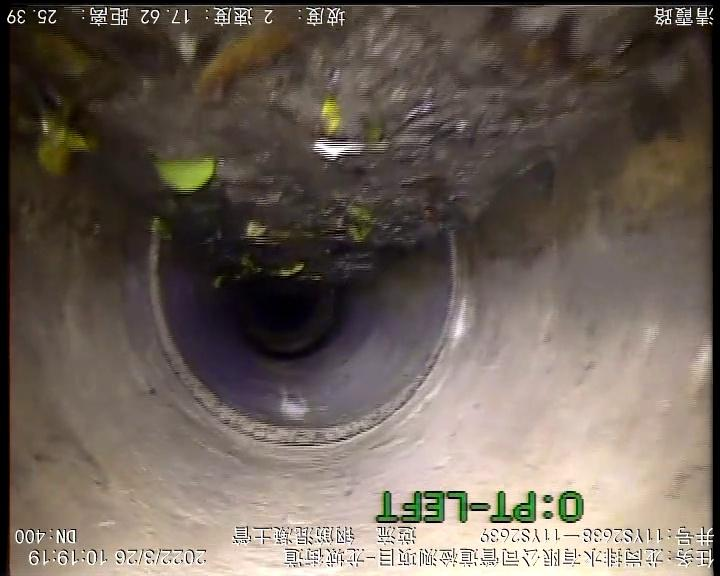CJ: (8, 7, 712, 293)
CKTJ: (138, 210, 464, 454)
